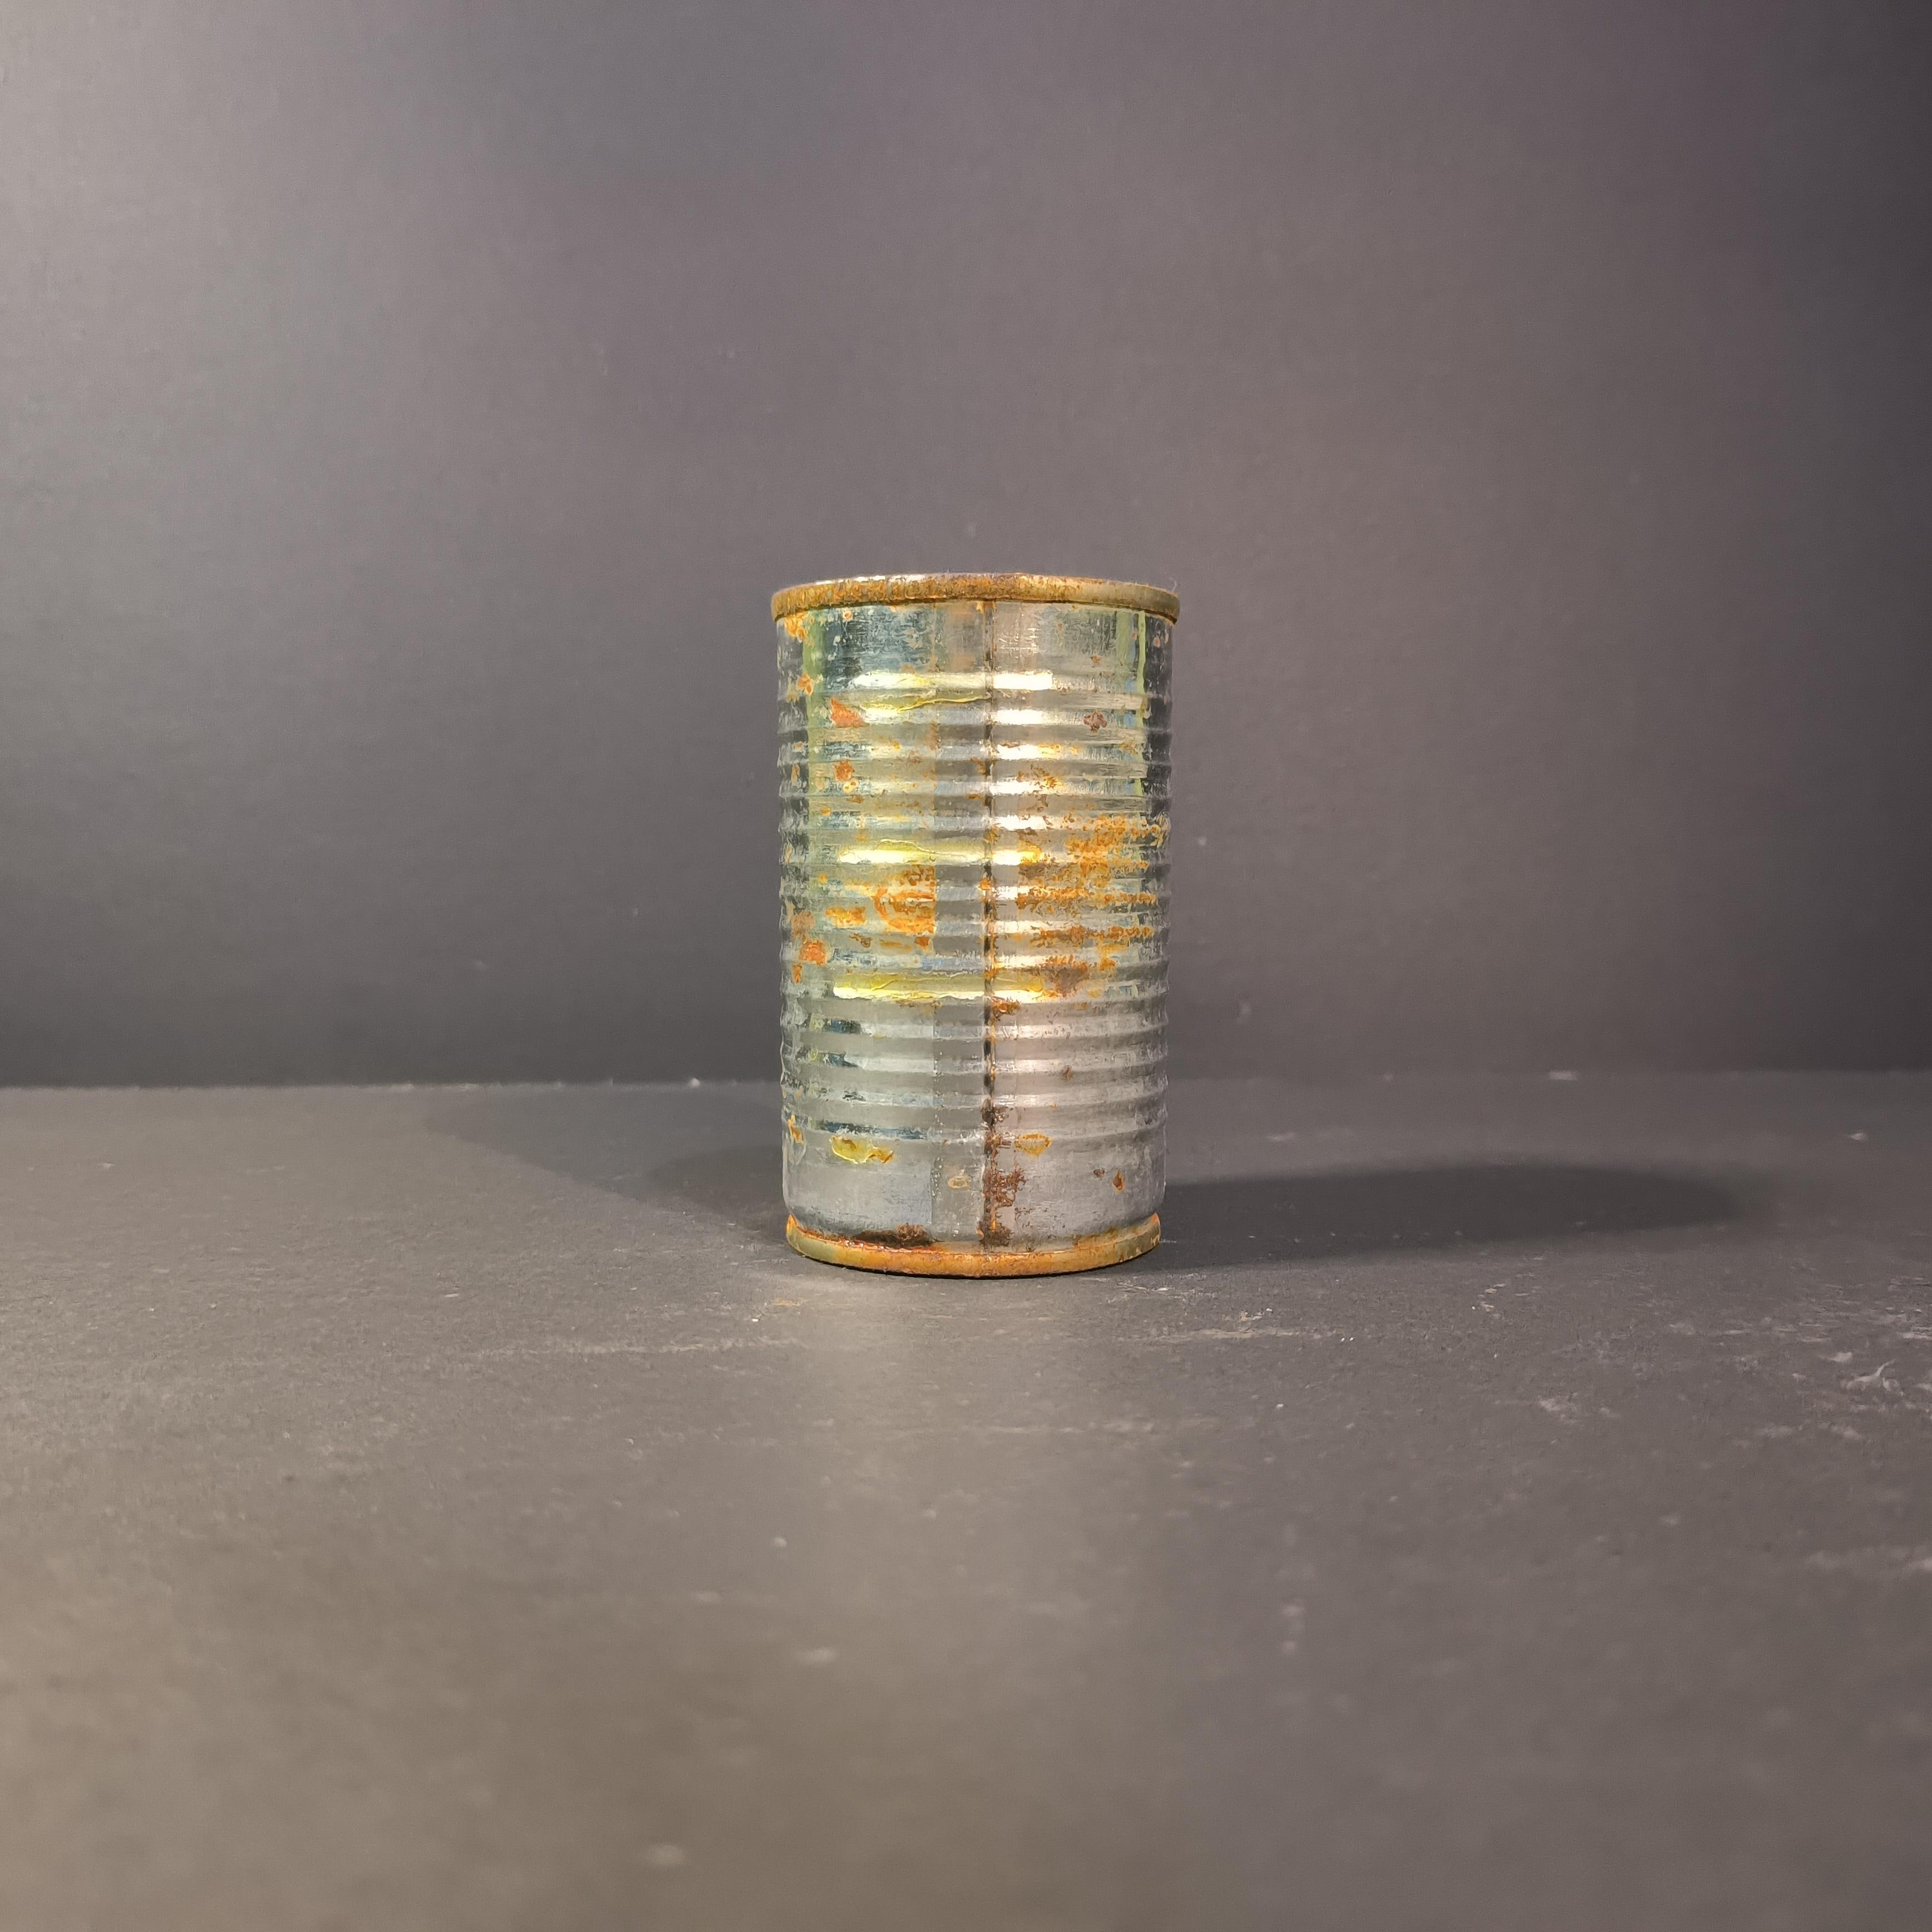Rusted: (754, 554, 1201, 1302)
